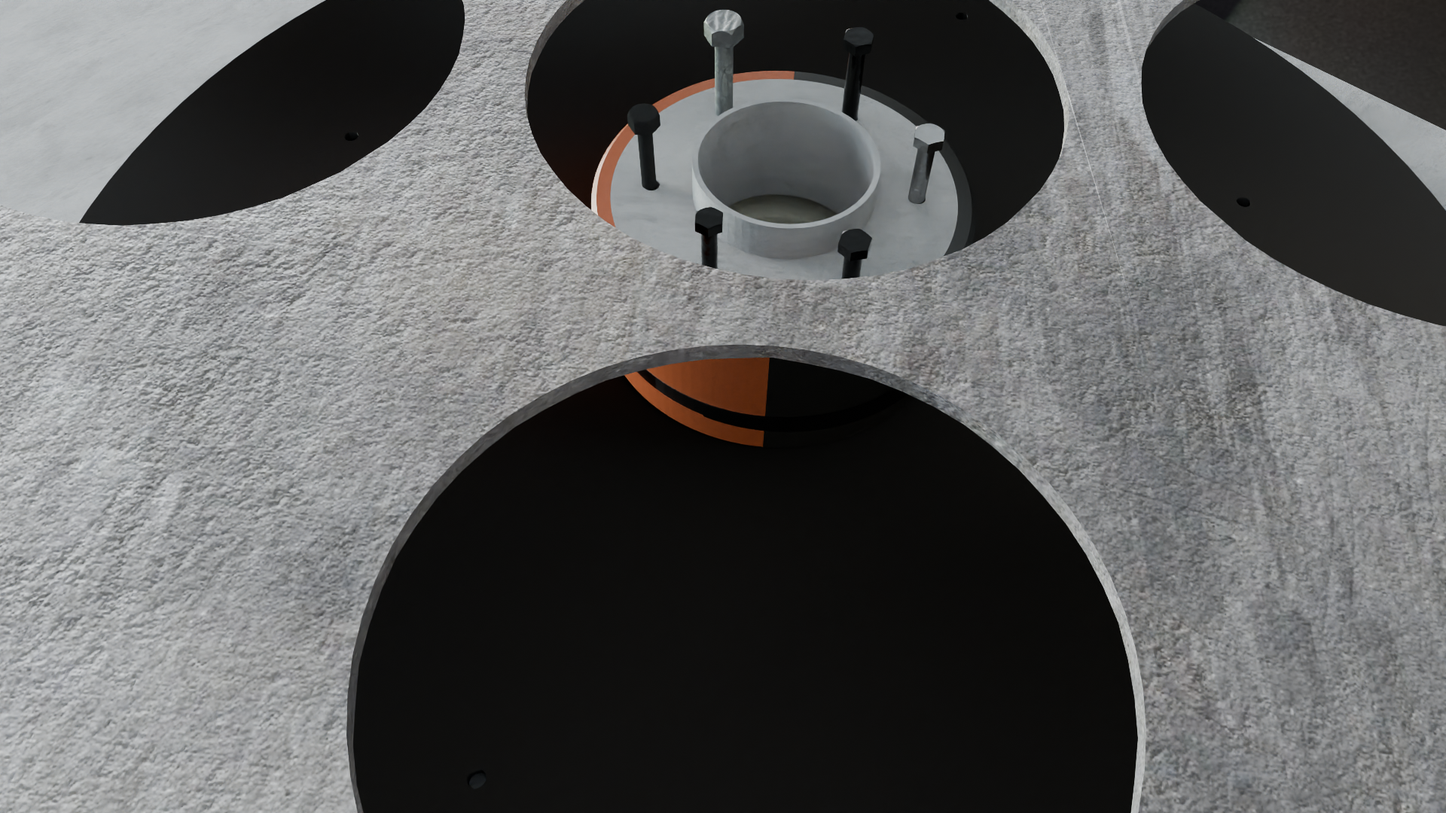bolt: (704, 10, 744, 35), (838, 229, 872, 253), (627, 103, 660, 125), (695, 206, 723, 229), (915, 123, 944, 145), (844, 27, 874, 47)
